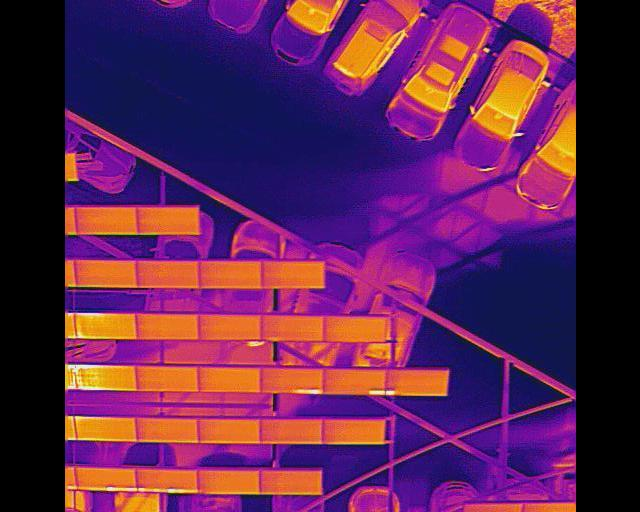No-Anomaly: (76, 205, 137, 236), (138, 205, 197, 236), (198, 260, 261, 289), (134, 260, 197, 289), (261, 260, 323, 289), (323, 316, 386, 343), (74, 260, 134, 288), (322, 419, 384, 446), (259, 316, 323, 342), (258, 420, 321, 446), (258, 469, 321, 495), (197, 368, 260, 394), (198, 315, 260, 341), (73, 417, 134, 442), (136, 369, 198, 393), (136, 316, 198, 340), (198, 420, 259, 444), (197, 471, 258, 495), (135, 420, 197, 442)
Unclassified: (259, 369, 323, 396), (384, 369, 447, 395), (322, 369, 384, 395), (74, 312, 136, 338), (73, 467, 135, 492), (72, 366, 136, 390), (135, 470, 196, 493)
